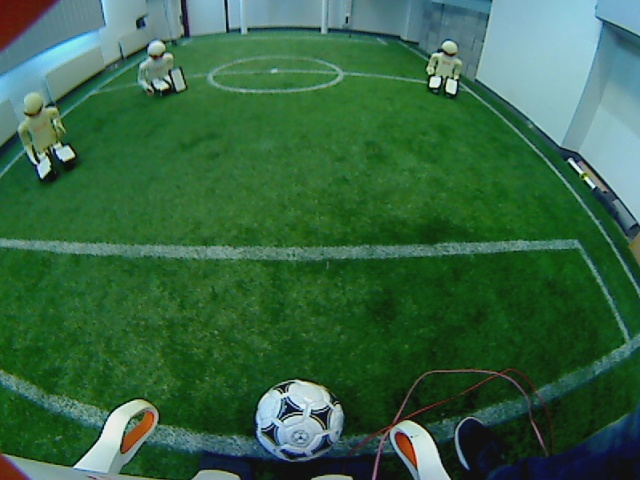ball: (252, 377, 348, 466)
robot: (15, 95, 82, 184), (133, 41, 188, 102), (422, 36, 466, 101)
